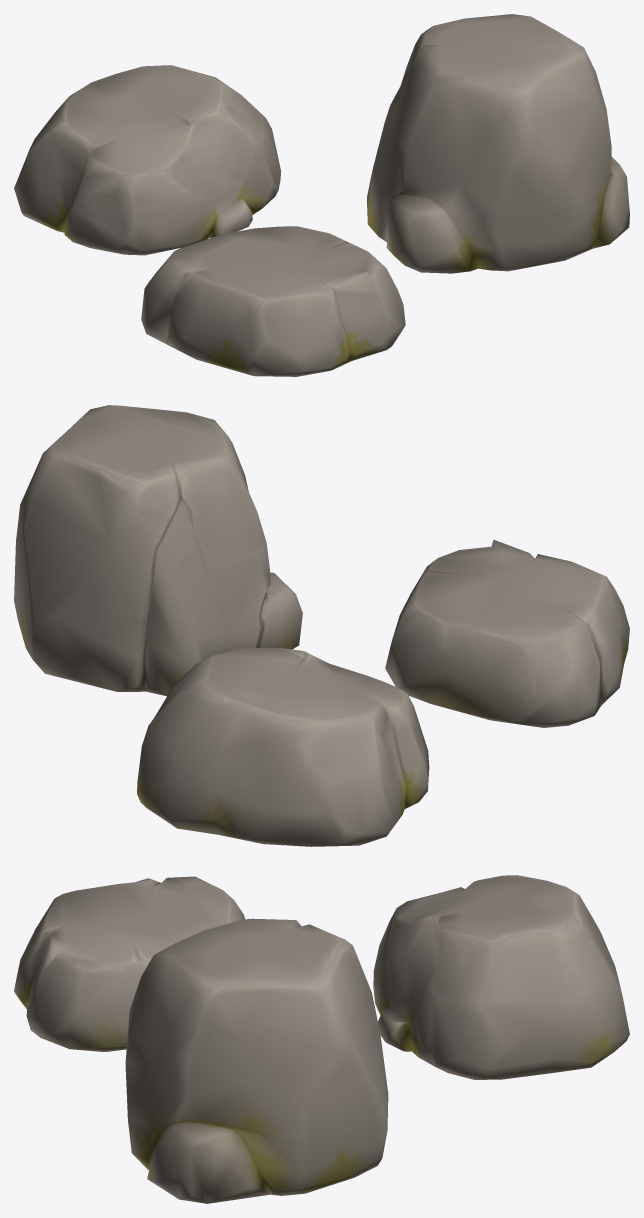
The model's file is tripo_convert_25b5aa97-75d5-4ef1-9b69-3338d4bb29af.fbx.
3 views of the same model, one above another, from view 1: azimuth 30°, elevation 25°; view 2: azimuth 150°, elevation 25°; view 3: azimuth 270°, elevation 25° (orthographic). The views are drawn at different scales.
Parts seen in each view (by area): view 1: tripo_part_0, tripo_part_1, tripo_part_2; view 2: tripo_part_0, tripo_part_1, tripo_part_2; view 3: tripo_part_0, tripo_part_1, tripo_part_2.
Boxes of the visible parts, x1,y1,x2,y2 form: tripo_part_0: [367, 14, 629, 273]; tripo_part_1: [14, 65, 281, 255]; tripo_part_2: [141, 226, 405, 376]; tripo_part_0: [14, 405, 302, 696]; tripo_part_1: [137, 647, 429, 846]; tripo_part_2: [385, 540, 629, 727]; tripo_part_0: [125, 918, 388, 1203]; tripo_part_1: [373, 875, 629, 1079]; tripo_part_2: [14, 876, 244, 1051].
Size of the model in its own units: 0.9987 by 0.3557 by 1.
1 material, 1 textured.
